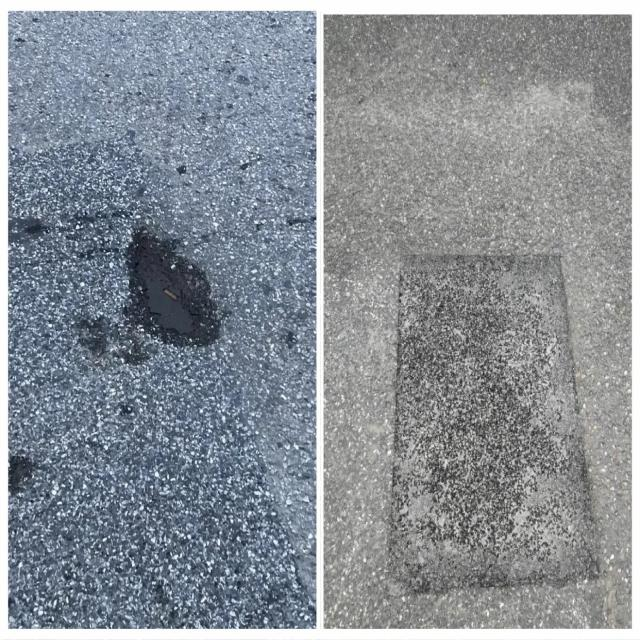Pothole: (123, 235, 220, 350)
